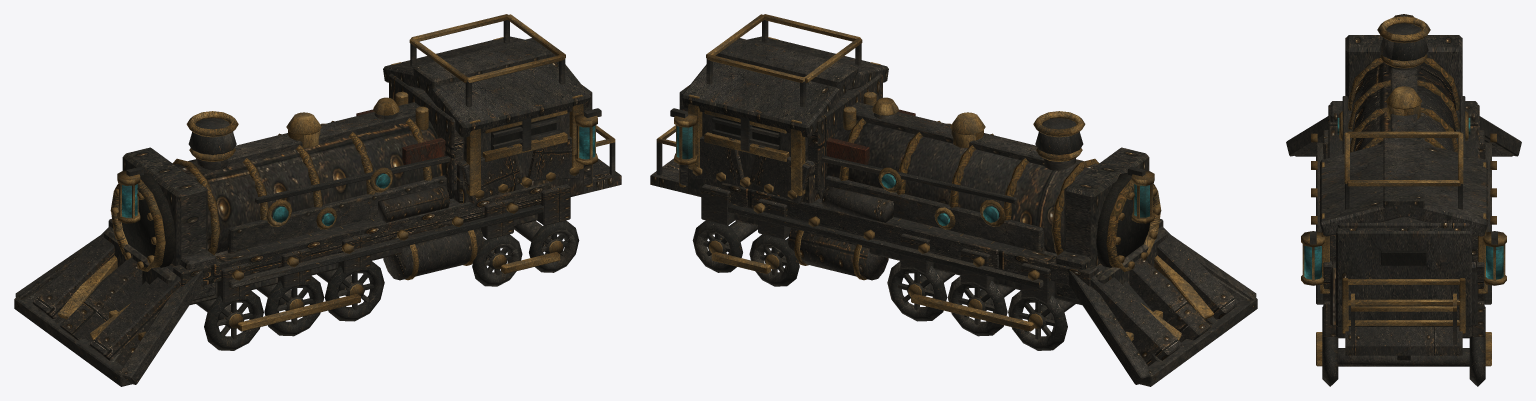
Rendered from railcar.glb.
The picture shows the model from 3 angles, left to right: view 1: azimuth 30°, elevation 25°; view 2: azimuth 150°, elevation 25°; view 3: azimuth 270°, elevation 25°; orthographic projection. The views are drawn at different scales.
Parts seen in each view (by area): view 1: Railcar_Wheels, Railcar_Boiler, Railcar_Cabin; view 2: Railcar_Wheels, Railcar_Boiler, Railcar_Cabin; view 3: Railcar_Cabin, Railcar_Wheels, Railcar_Boiler.
Part boxes in pixels (bbox=[...]): Railcar_Wheels: bbox=[14, 125, 621, 386]; Railcar_Boiler: bbox=[110, 91, 450, 271]; Railcar_Cabin: bbox=[383, 14, 601, 222]; Railcar_Wheels: bbox=[650, 125, 1257, 386]; Railcar_Boiler: bbox=[821, 91, 1161, 271]; Railcar_Cabin: bbox=[670, 14, 888, 222]; Railcar_Cabin: bbox=[1301, 131, 1506, 333]; Railcar_Wheels: bbox=[1286, 101, 1521, 386]; Railcar_Boiler: bbox=[1337, 14, 1470, 154].
Size of the model in its own units: 3.3 by 1.24 by 1.25.
Materials: 1 (1 with a texture image).
